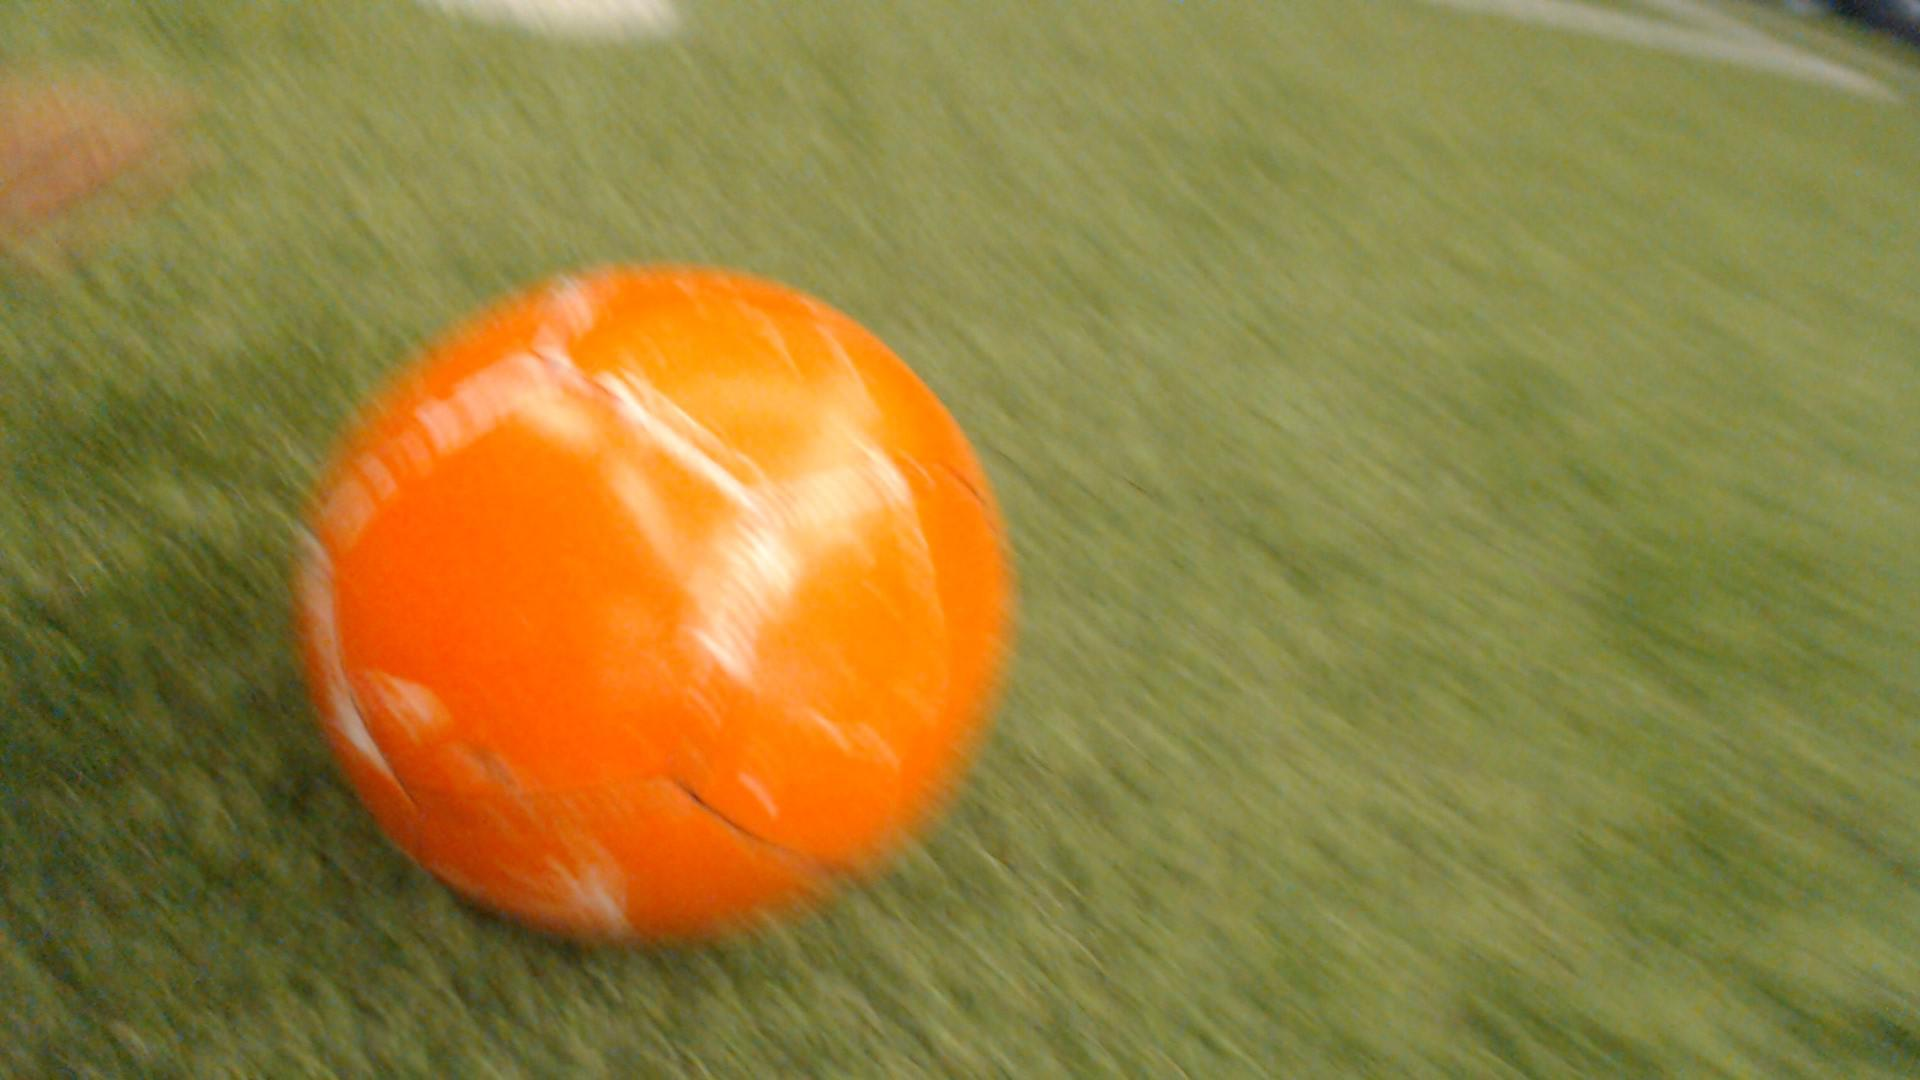bola: (252, 216, 1040, 977)
